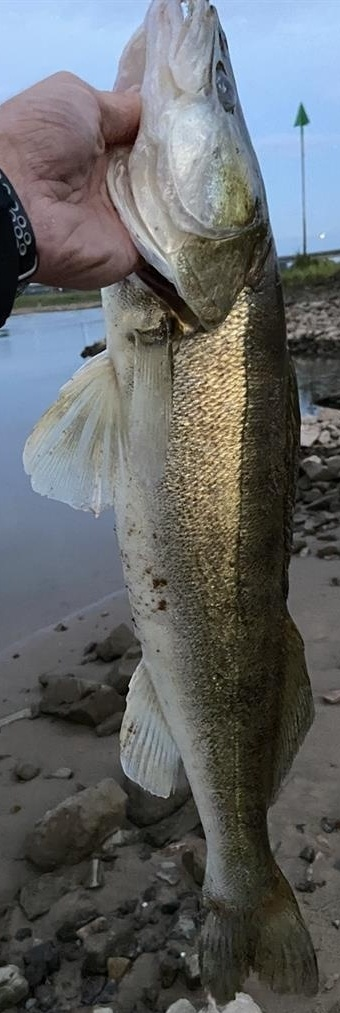Sander lucioperca: (20, 1, 320, 993)
